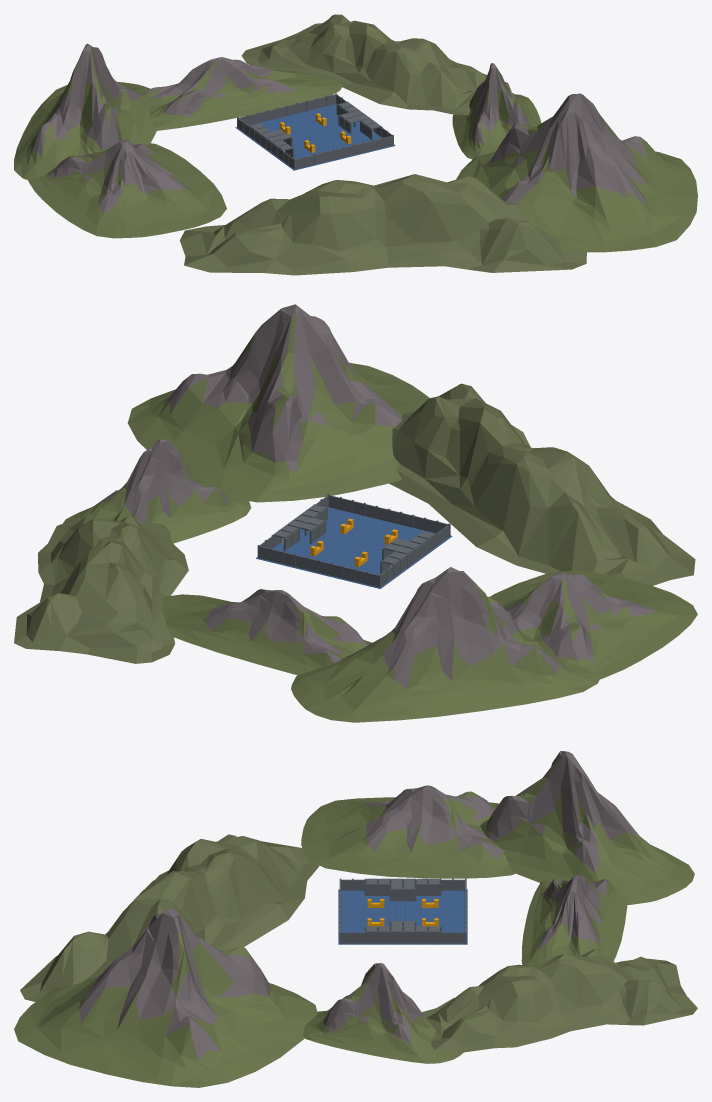
The model's file is level-1-graphic.glb.
The picture shows the model from 3 angles, top to bottom: view 1: azimuth 30°, elevation 25°; view 2: azimuth 150°, elevation 25°; view 3: azimuth 270°, elevation 25°; orthographic projection. The views are drawn at different scales.
Parts seen in each view (by area): view 1: SM_Generic_Mountains_Soft_01.001, SM_Generic_Mountains_Grass_02.004, SM_Generic_Mountains_Grass_02.002, SM_Generic_Mountains_Soft_01, SM_Generic_Mountains_Grass_02, SM_Generic_Mountains_Grass_02.001, SM_Generic_Mountains_Grass_02.003; view 2: SM_Generic_Mountains_Grass_02.004, SM_Generic_Mountains_Soft_01.001, SM_Generic_Mountains_Grass_02, SM_Generic_Mountains_Soft_01, SM_Generic_Mountains_Grass_02.002, SM_Generic_Mountains_Grass_02.001, SM_Generic_Mountains_Grass_02.003; view 3: SM_Generic_Mountains_Grass_02.004, SM_Generic_Mountains_Soft_01.001, SM_Generic_Mountains_Soft_01, SM_Generic_Mountains_Grass_02, SM_Generic_Mountains_Grass_02.002, SM_Generic_Mountains_Grass_02.003, SM_Generic_Mountains_Grass_02.001.
Part boxes in pixels (x1,y1,x2,y2): SM_Generic_Mountains_Soft_01.001: (180,174,586,275); SM_Generic_Mountains_Grass_02.004: (456,93,697,252); SM_Generic_Mountains_Grass_02.002: (28,139,226,238); SM_Generic_Mountains_Soft_01: (241,14,511,115); SM_Generic_Mountains_Grass_02: (14,43,156,180); SM_Generic_Mountains_Grass_02.001: (143,57,343,130); SM_Generic_Mountains_Grass_02.003: (452,63,541,159); SM_Generic_Mountains_Grass_02.004: (127,304,429,502); SM_Generic_Mountains_Soft_01.001: (389,383,695,585); SM_Generic_Mountains_Grass_02: (291,567,599,722); SM_Generic_Mountains_Soft_01: (14,516,188,663); SM_Generic_Mountains_Grass_02.002: (489,570,697,679); SM_Generic_Mountains_Grass_02.001: (162,589,372,675); SM_Generic_Mountains_Grass_02.003: (63,438,251,543); SM_Generic_Mountains_Grass_02.004: (14,908,317,1087); SM_Generic_Mountains_Soft_01.001: (20,834,319,1001); SM_Generic_Mountains_Soft_01: (422,949,697,1053); SM_Generic_Mountains_Grass_02: (480,751,694,904); SM_Generic_Mountains_Grass_02.002: (301,785,515,878); SM_Generic_Mountains_Grass_02.003: (303,963,463,1063); SM_Generic_Mountains_Grass_02.001: (521,874,627,966).
Bounding box in the file's own units: 161 × 32.31 × 164.
4 materials, 4 textured.
